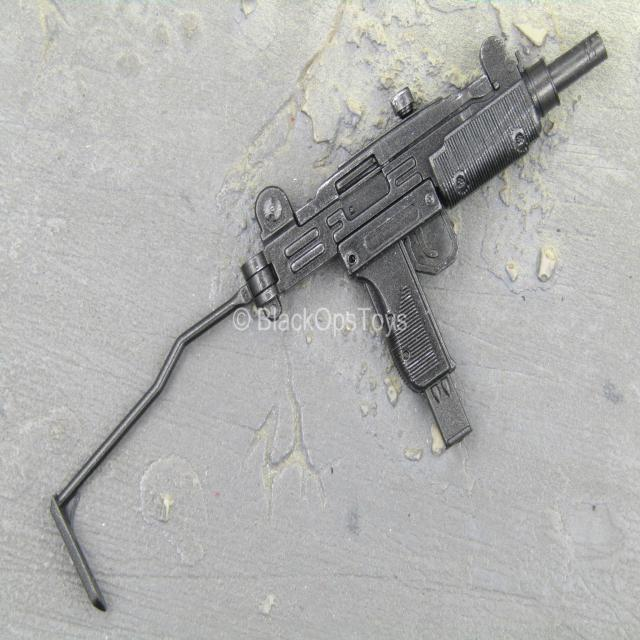SMG: (54, 34, 608, 591)
